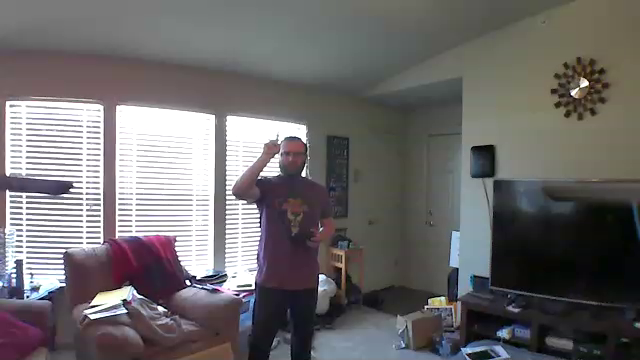up: (259, 131, 284, 157)
